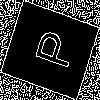P: (25, 24, 78, 72)
